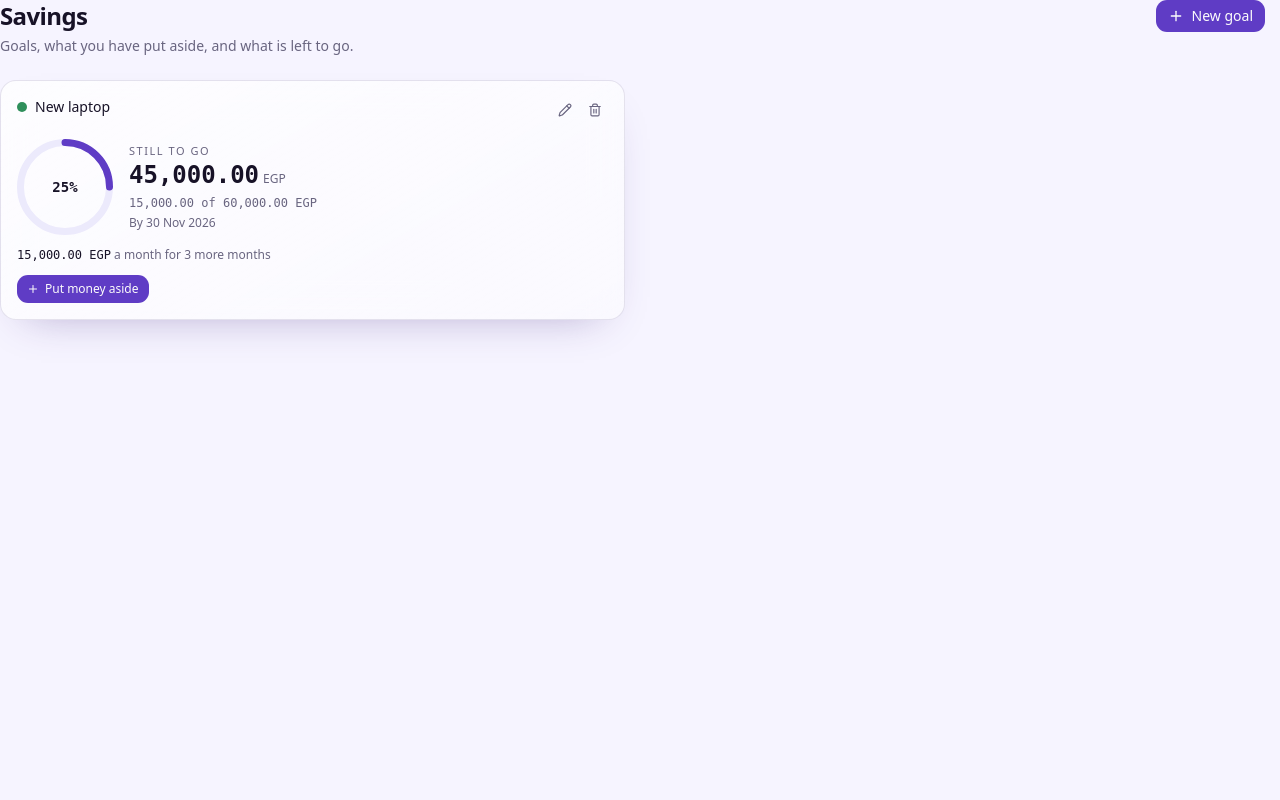
Test: putting money aside › prefills what you would need this month when there is a deadline
The image size is (1280, 800).
Click the button "Put money aside". click: (83, 289)
box: [17,275,148,303]
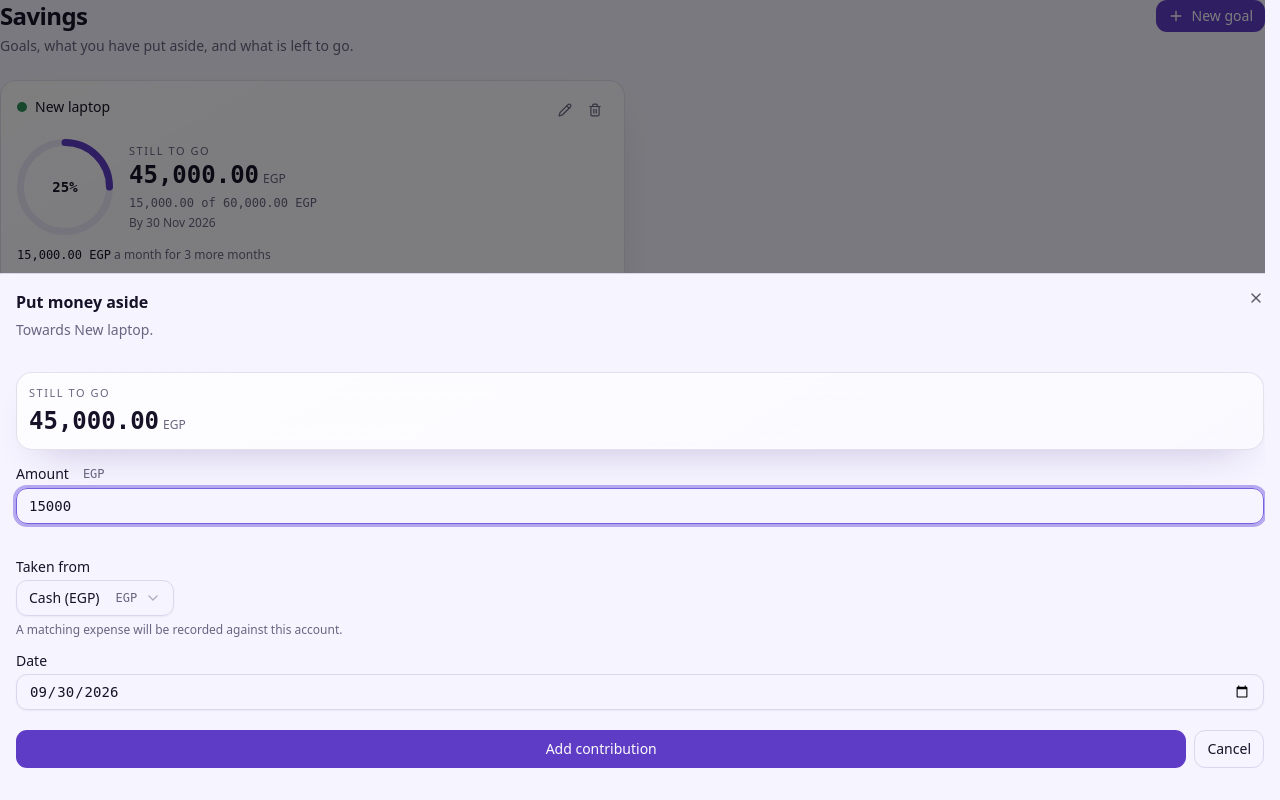
Expected: the field labelled "Amount EGP" holds "15000", [16,488,1264,524]
